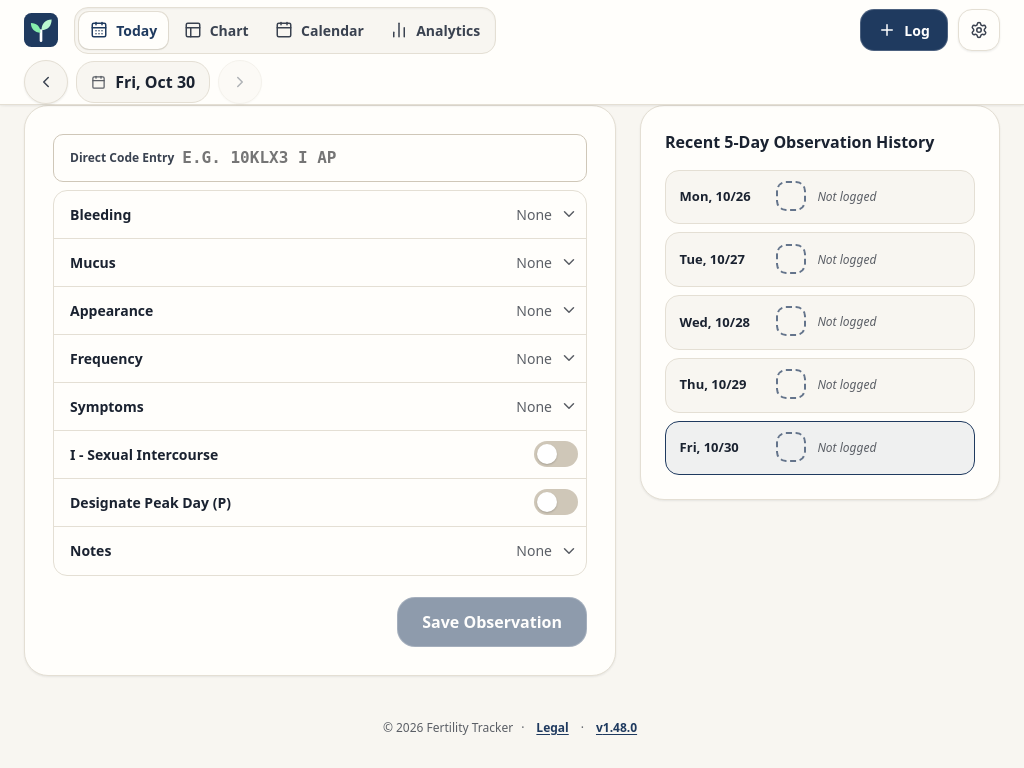
Test: App keyboard shortcuts › opens the shortcuts dialog from the version dialog
(page scrolled)
Step 1. Click the button "v1.48.0" → click(617, 728), box top-left (592, 712), bottom-right (641, 744)
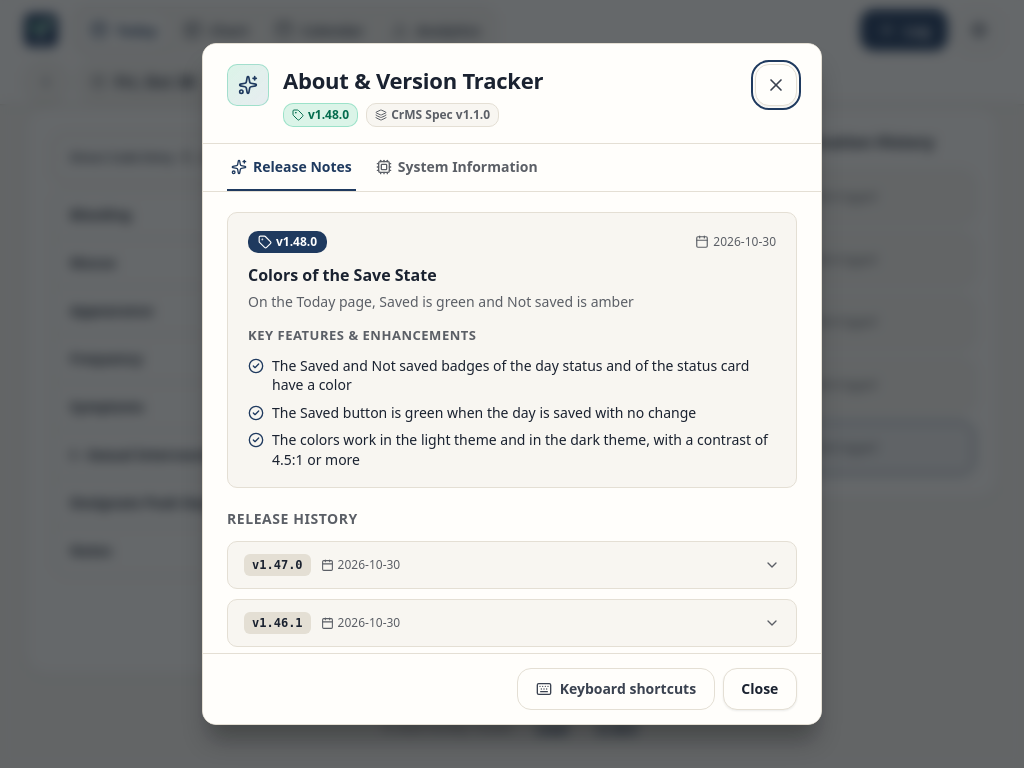
Step 2. Click the button "Keyboard shortcuts" → click(616, 689), box top-left (517, 668), bottom-right (715, 710)
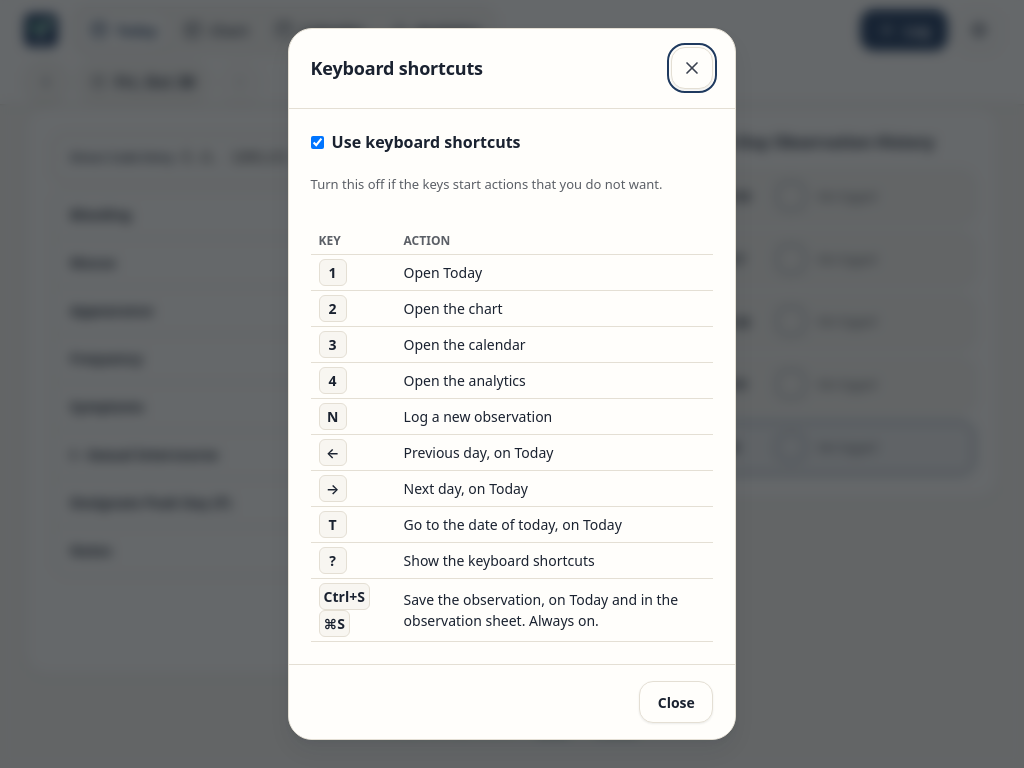
Expected: the dialog "Keyboard shortcuts" is shown
Expected: the heading "About & Version Tracker" is gone
